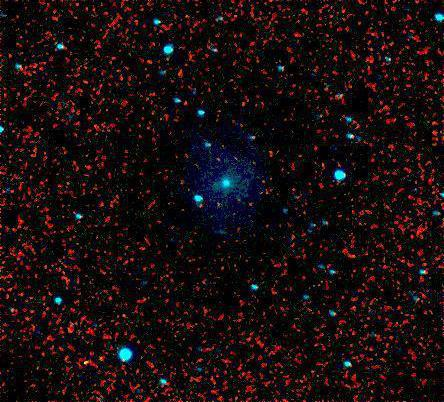star: (108, 301, 138, 331)
